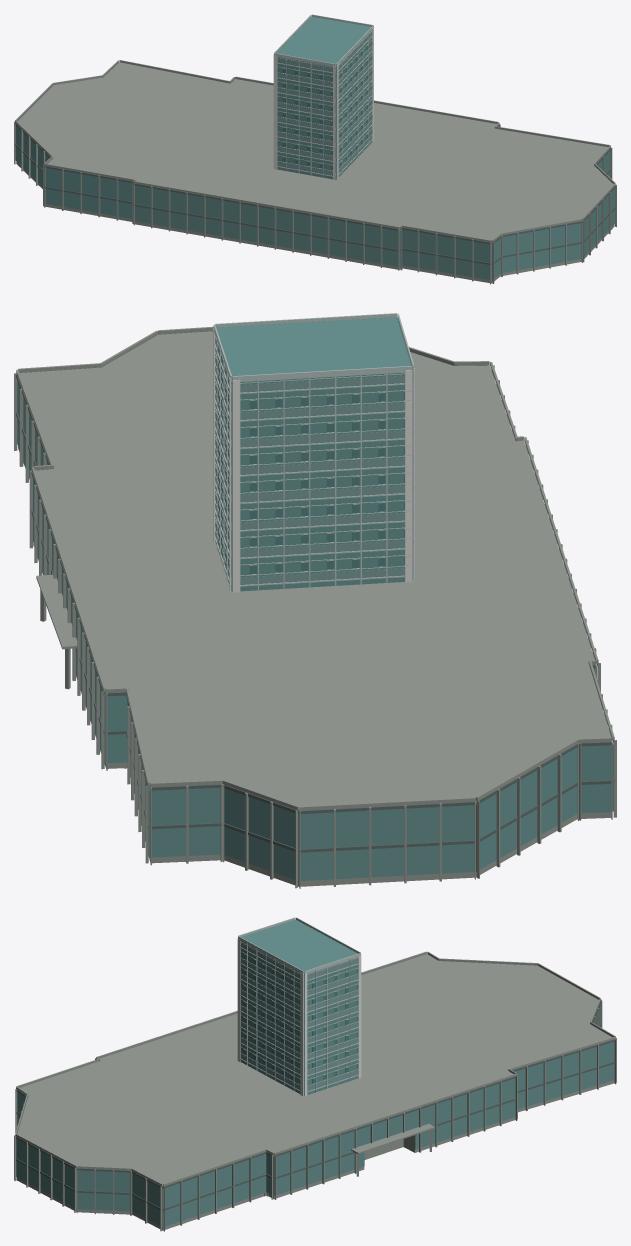
Rendered from bespoke-lotte-castle-ivy-connector.glb.
The picture shows the model from 3 angles, top to bottom: view 1: azimuth 30°, elevation 25°; view 2: azimuth 150°, elevation 25°; view 3: azimuth 270°, elevation 25°; orthographic projection. The views are drawn at different scales.
Visible parts, largest first — view 1: shared_podium_exact_source_polygon008_1, retail_glazing_and_connector008, retail_glazing_and_connector008_5, retail_glazing_and_connector008_3, simplified_retail_terrace008_1, retail_glazing_and_connector008_1, retail_glazing_and_connector008_6, shared_podium_exact_source_polygon008, retail_glazing_and_connector008_2, retail_glazing_and_connector008_7, simplified_retail_terrace008; view 2: shared_podium_exact_source_polygon008_1, retail_glazing_and_connector008, retail_glazing_and_connector008_5, retail_glazing_and_connector008_3, retail_glazing_and_connector008_1, shared_podium_exact_source_polygon008, simplified_retail_terrace008_1, retail_glazing_and_connector008_2, retail_glazing_and_connector008_6, retail_glazing_and_connector008_7, simplified_retail_terrace008; view 3: shared_podium_exact_source_polygon008_1, retail_glazing_and_connector008, retail_glazing_and_connector008_5, retail_glazing_and_connector008_3, retail_glazing_and_connector008_1, simplified_retail_terrace008_1, shared_podium_exact_source_polygon008, retail_glazing_and_connector008_6, retail_glazing_and_connector008_2, retail_glazing_and_connector008_7, simplified_retail_terrace008.
Boxes of the visible parts, box(x1,y1,x2,y2) form: shared_podium_exact_source_polygon008_1: box(16, 62, 614, 283); retail_glazing_and_connector008: box(15, 17, 615, 279); retail_glazing_and_connector008_5: box(14, 83, 616, 284); retail_glazing_and_connector008_3: box(277, 31, 373, 177); simplified_retail_terrace008_1: box(15, 60, 615, 242); retail_glazing_and_connector008_1: box(277, 32, 371, 175); retail_glazing_and_connector008_6: box(15, 62, 615, 264); shared_podium_exact_source_polygon008: box(276, 16, 370, 65); retail_glazing_and_connector008_2: box(273, 27, 373, 180); retail_glazing_and_connector008_7: box(282, 41, 372, 170); simplified_retail_terrace008: box(274, 14, 373, 66); shared_podium_exact_source_polygon008_1: box(18, 331, 611, 886); retail_glazing_and_connector008: box(17, 317, 613, 880); retail_glazing_and_connector008_5: box(14, 365, 616, 888); retail_glazing_and_connector008_3: box(214, 334, 413, 590); retail_glazing_and_connector008_1: box(215, 337, 413, 584); shared_podium_exact_source_polygon008: box(216, 317, 411, 378); simplified_retail_terrace008_1: box(16, 326, 614, 810); retail_glazing_and_connector008_2: box(213, 328, 414, 592); retail_glazing_and_connector008_6: box(16, 331, 614, 852); retail_glazing_and_connector008_7: box(216, 356, 404, 574); simplified_retail_terrace008: box(213, 313, 414, 381); shared_podium_exact_source_polygon008_1: box(16, 954, 614, 1230); retail_glazing_and_connector008: box(16, 921, 614, 1226); retail_glazing_and_connector008_5: box(14, 999, 616, 1231); retail_glazing_and_connector008_3: box(240, 942, 359, 1092); retail_glazing_and_connector008_1: box(241, 943, 358, 1091); simplified_retail_terrace008_1: box(15, 951, 615, 1186); shared_podium_exact_source_polygon008: box(241, 919, 357, 1095); retail_glazing_and_connector008_6: box(16, 954, 615, 1210); retail_glazing_and_connector008_2: box(237, 938, 361, 1096); retail_glazing_and_connector008_7: box(244, 954, 358, 1084); simplified_retail_terrace008: box(238, 917, 360, 974).
Bounding box in the file's own units: 89.89 × 30.35 × 97.92.
